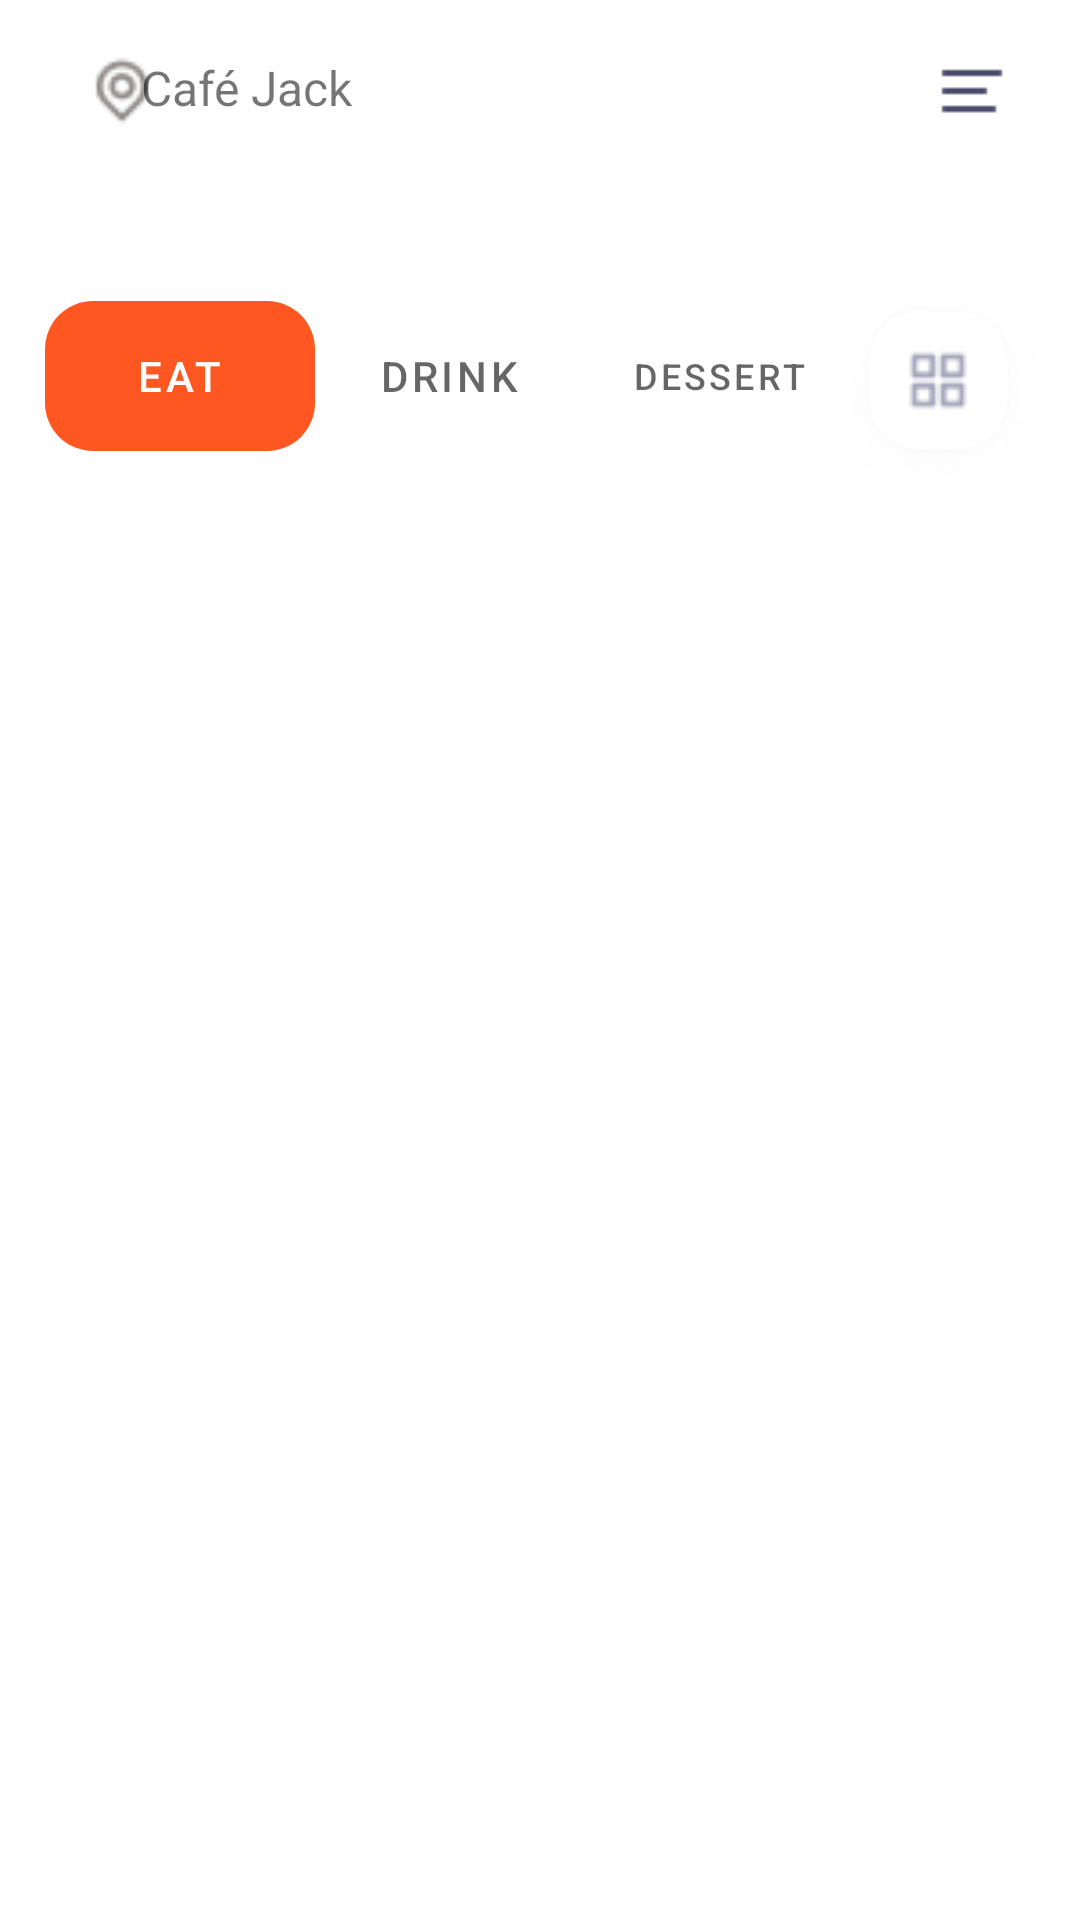

Where to tap for icons on this 1080 × 1920 app screen, as (x=x, y=y):
location: (x=127, y=90)
menu: (x=972, y=91)
